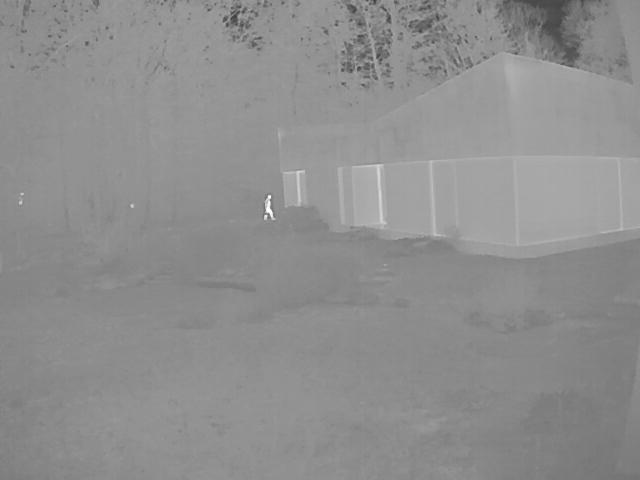person: (265, 193, 278, 220)
